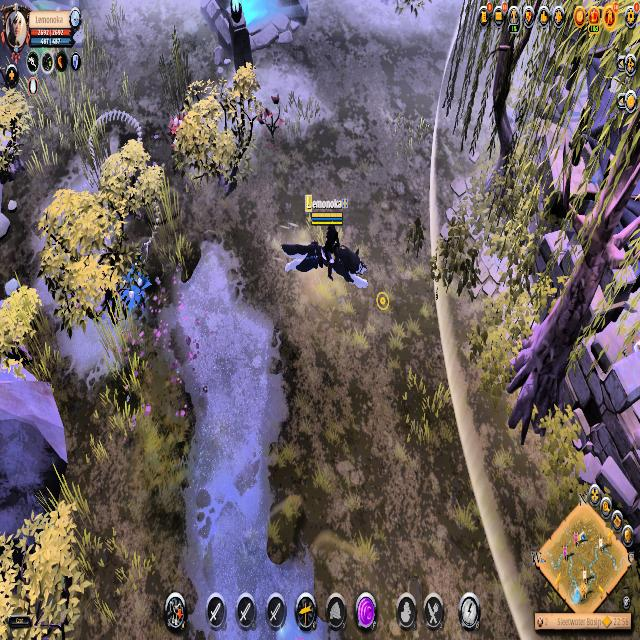fiber tier 4: (120, 261, 154, 315)
